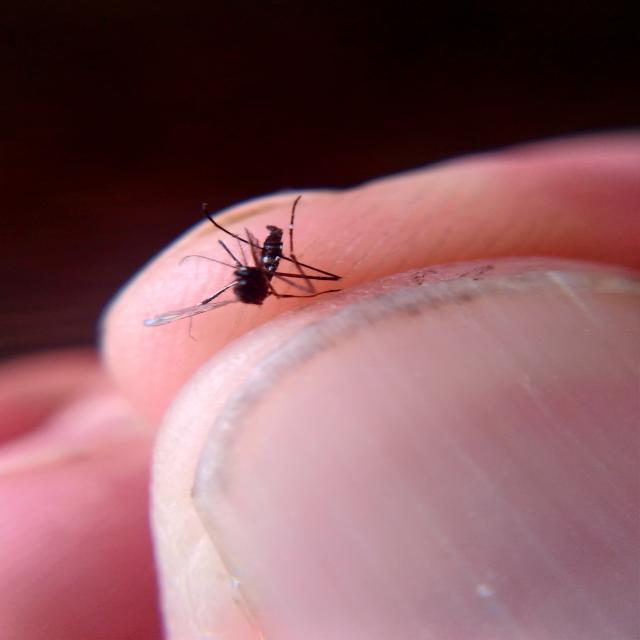albopictus: (142, 194, 359, 331)
